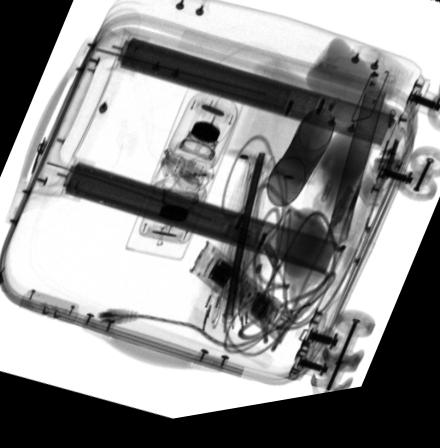Baton: (189, 248, 298, 357)
